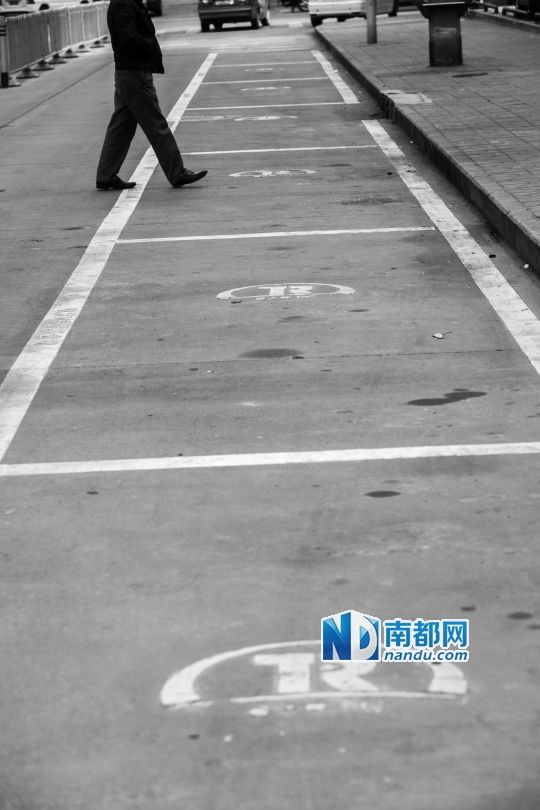slot_nocar: (1, 192, 540, 511), (89, 130, 472, 258), (143, 85, 408, 163), (170, 73, 382, 118), (193, 56, 346, 87), (207, 40, 333, 69)
